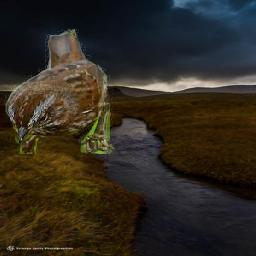Sparrow: (5, 30, 116, 155)
